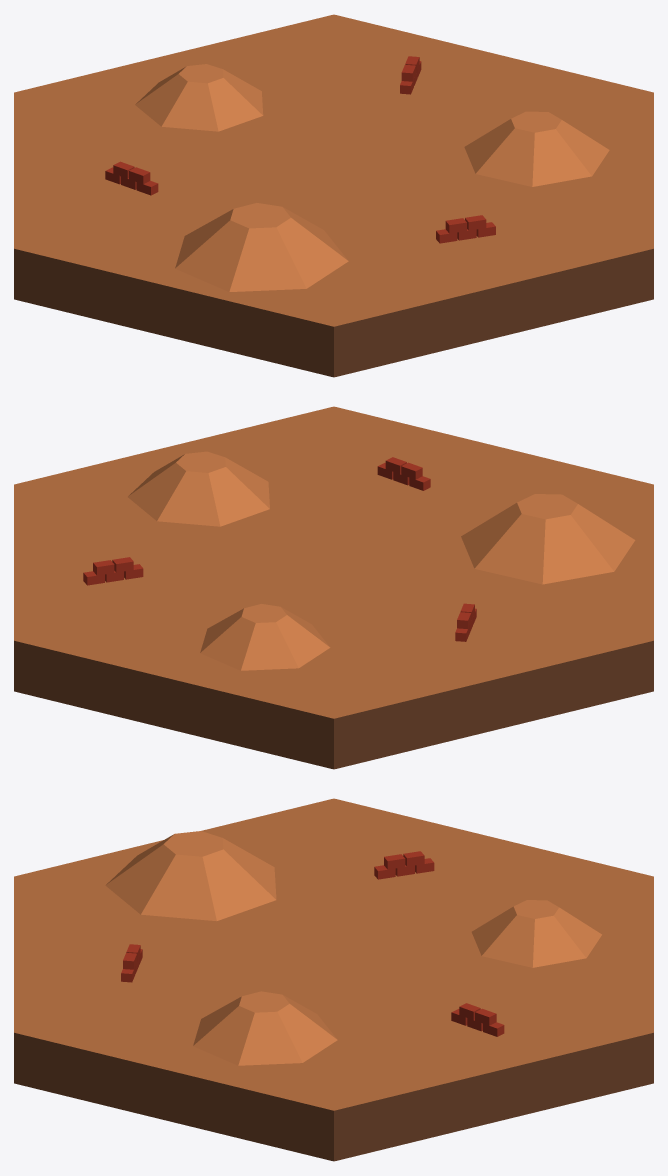
The model's file is hills.obj.
The picture shows the model from 3 angles, top to bottom: view 1: azimuth 30°, elevation 25°; view 2: azimuth 150°, elevation 25°; view 3: azimuth 270°, elevation 25°; orthographic projection.
Parts seen in each view (by area): view 1: hills; view 2: hills; view 3: hills.
Part boxes in pixels (x1,y1,x2,y2): hills: (14,14,653,377); hills: (14,406,653,769); hills: (14,798,653,1161).
Bounding box in the file's own units: 1.98 × 0.27 × 1.71.
